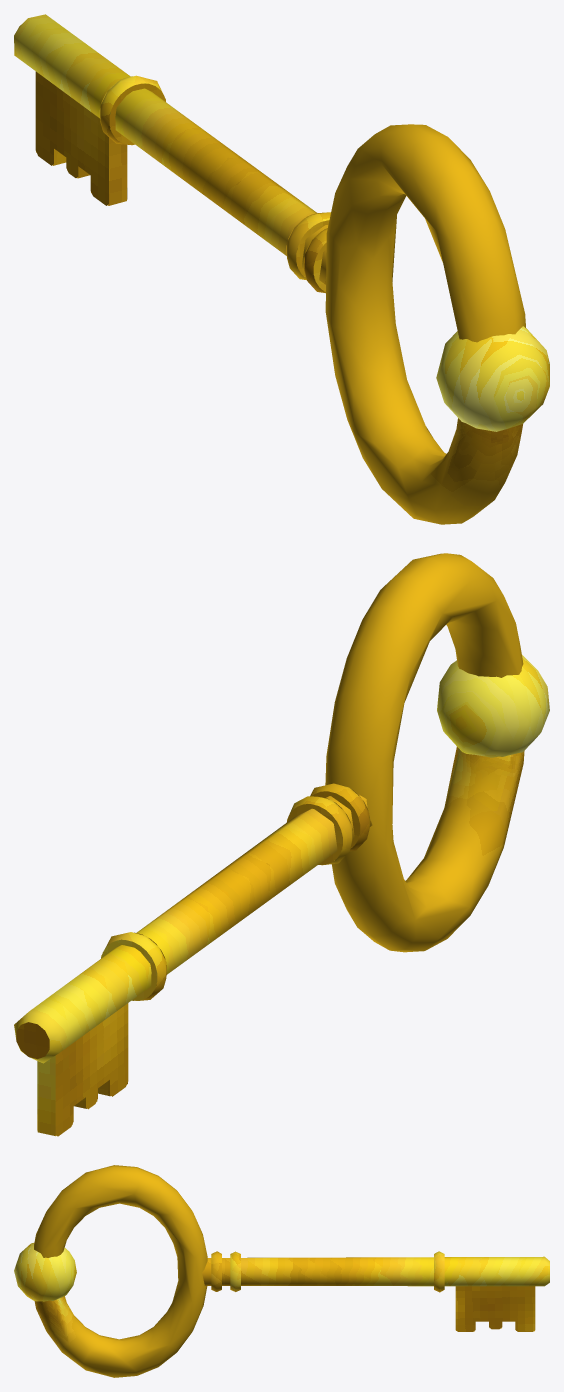
File: key.obj
The picture shows the model from 3 angles, top to bottom: view 1: azimuth 30°, elevation 25°; view 2: azimuth 150°, elevation 25°; view 3: azimuth 270°, elevation 25°; orthographic projection. The views are drawn at different scales.
Parts seen in each view (by area): view 1: key_opengameart_key; view 2: key_opengameart_key; view 3: key_opengameart_key.
Part boxes in pixels (bbox=[...]): key_opengameart_key: bbox=[14, 14, 549, 524]; key_opengameart_key: bbox=[14, 553, 549, 1136]; key_opengameart_key: bbox=[14, 1165, 549, 1377].
Bounding box in the file's own units: 4.22 × 15.67 × 36.42.
1 material, 1 textured.
